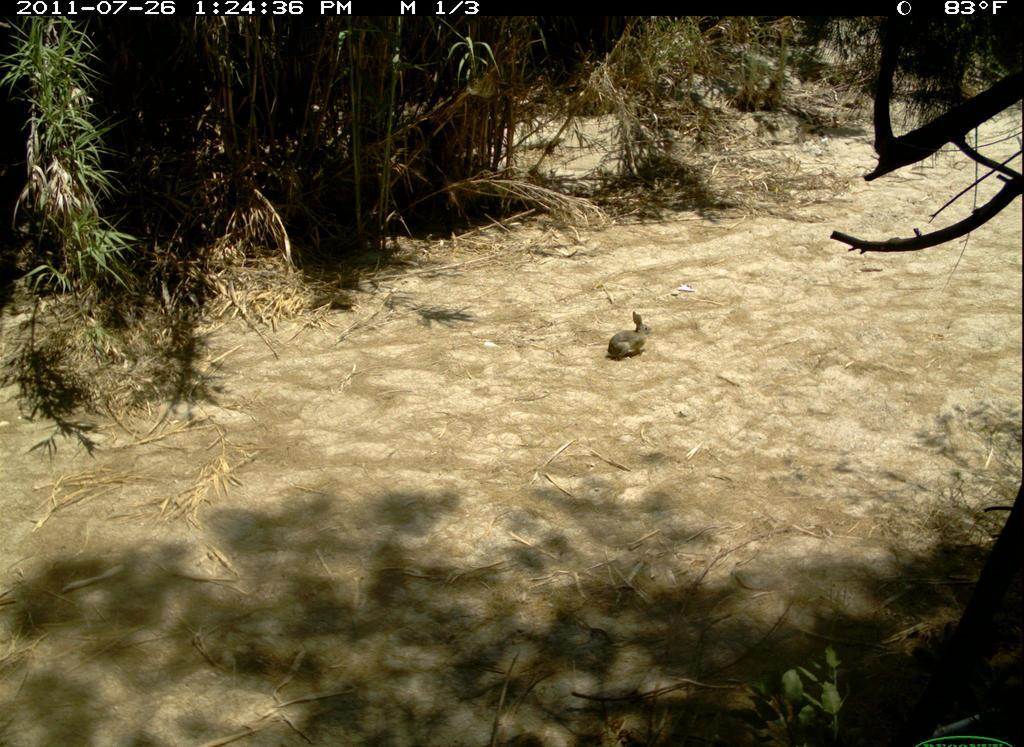rabbit: (604, 311, 655, 367)
